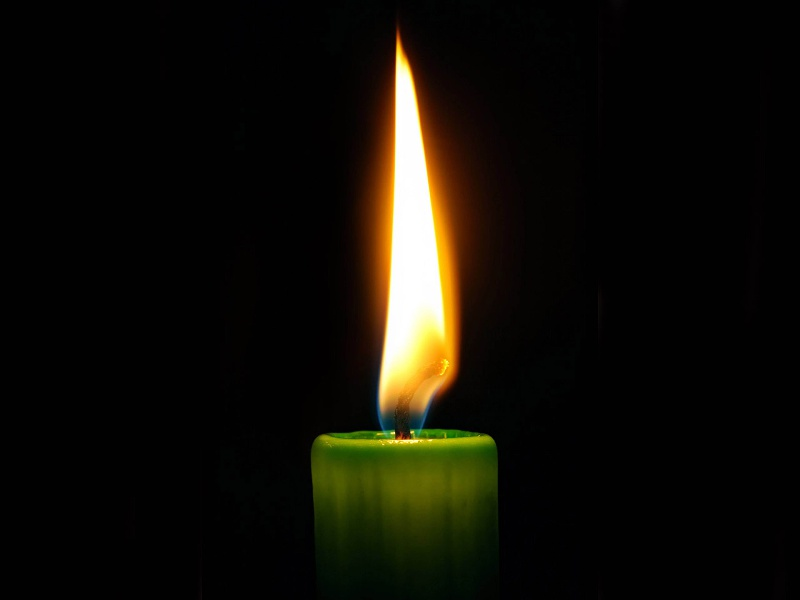fire: (376, 32, 461, 426)
